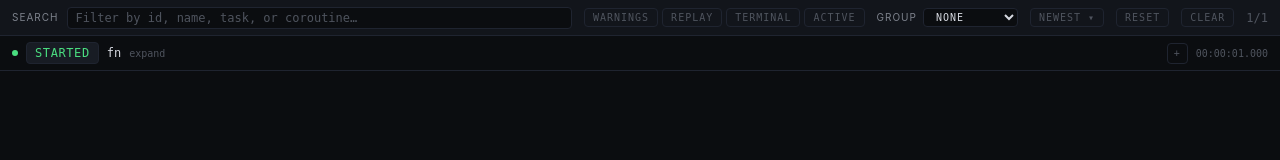
Scenario: RuntimeEventFeedContainer › expands a row with the toggle button
The width and height of the screenshot is (1280, 160).
Click the button named "Expand event details" at (1177, 53), box [1167,42,1188,64]
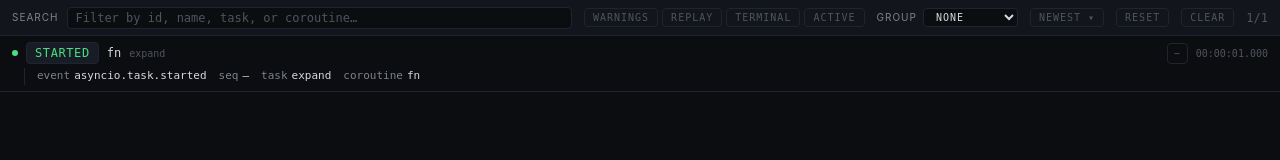
Expected: the list item is expanded, [0,36,1279,92]
